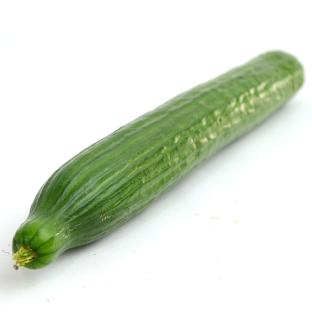Cucumber: (13, 52, 303, 268)
